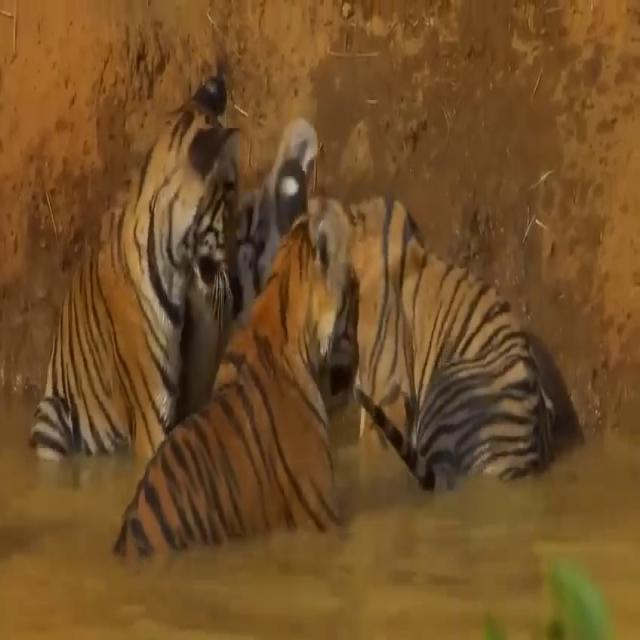tiger: (26, 70, 242, 462)
